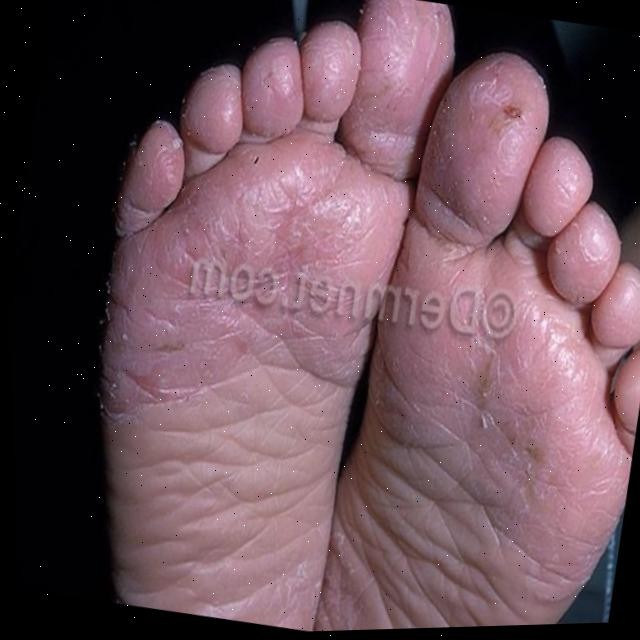Eczema: (503, 420, 543, 489), (503, 100, 522, 136)
